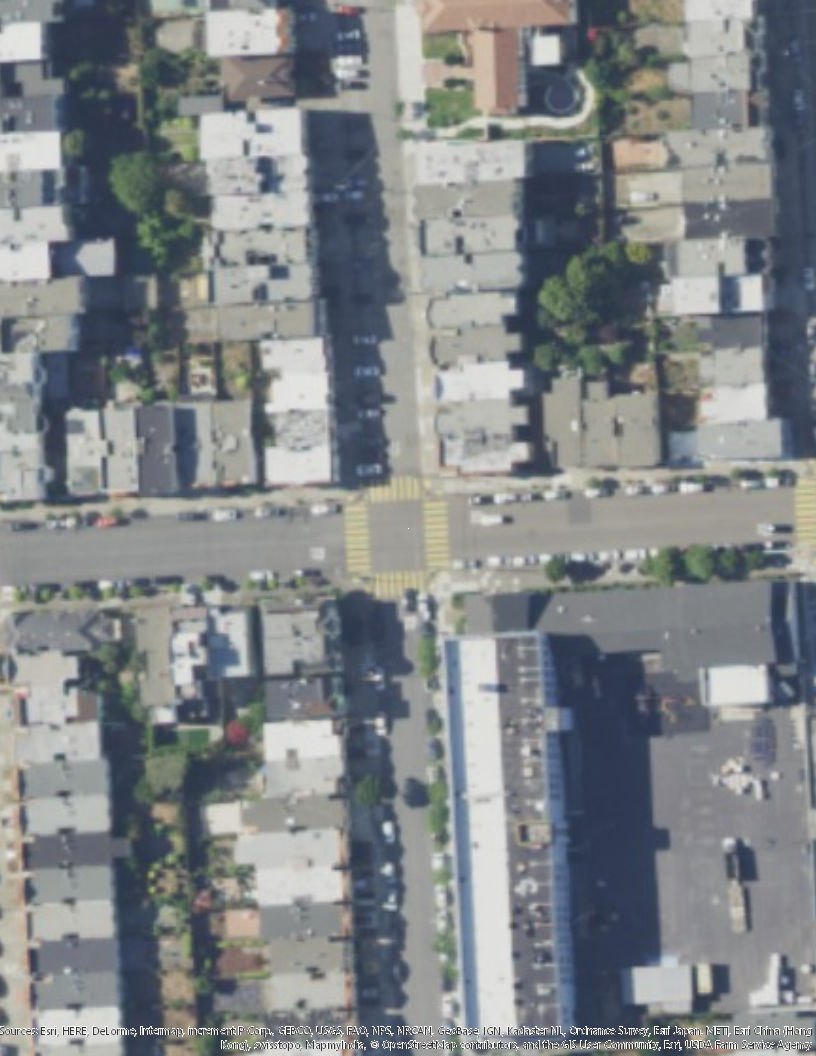zebracross: (340, 502, 370, 574), (422, 499, 451, 567), (791, 476, 816, 549), (366, 475, 423, 503), (374, 570, 424, 596)
